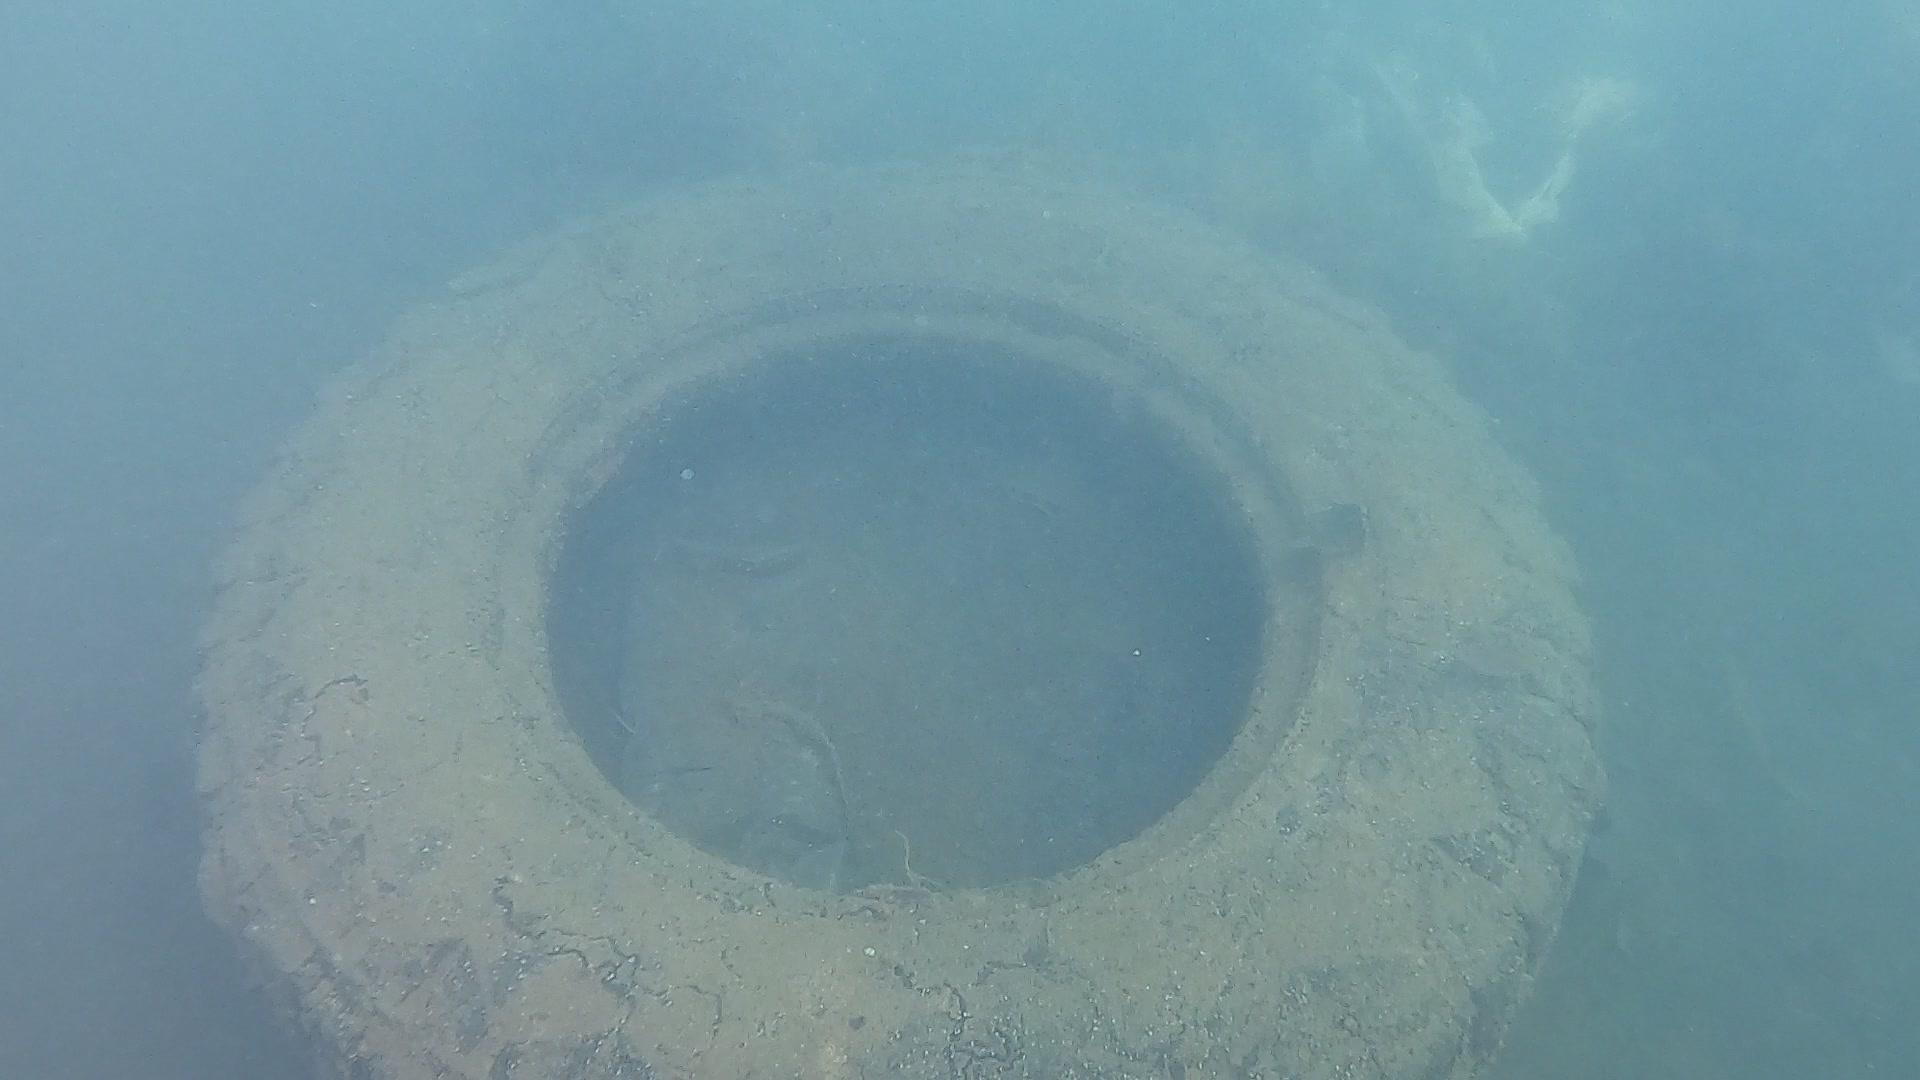tire: (175, 145, 1609, 1080)
